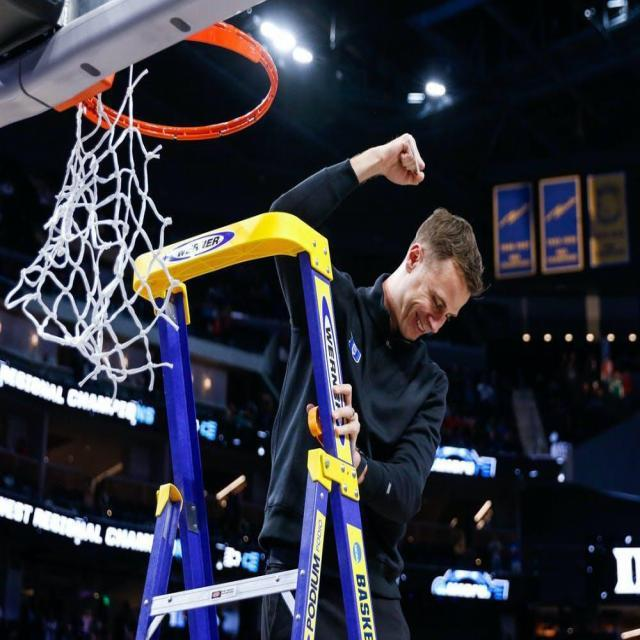hoop: (6, 22, 278, 407)
